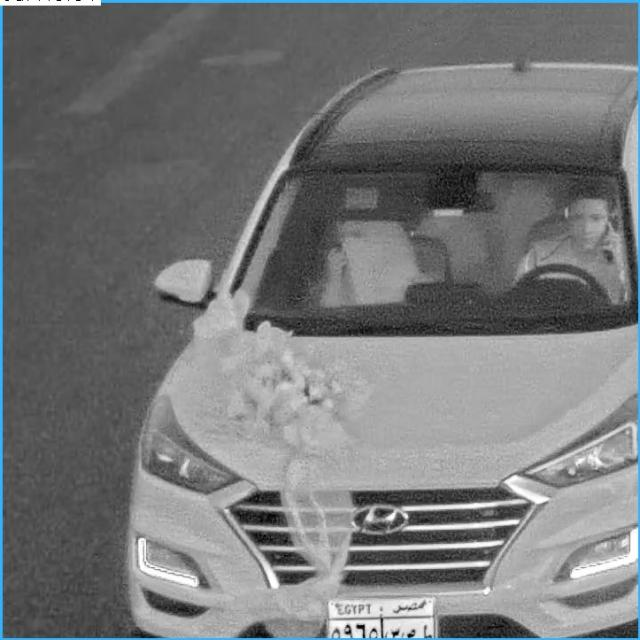windshield: (230, 168, 638, 314)
